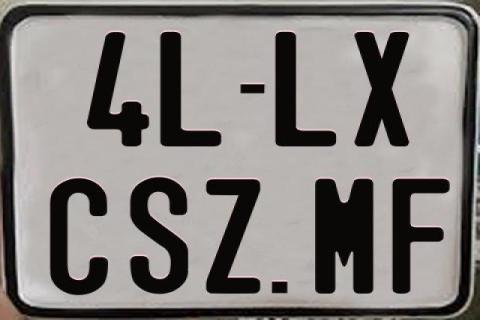0: (85, 31, 150, 149)
C: (48, 178, 106, 296)
F: (392, 177, 451, 296)
L: (158, 32, 223, 150), (274, 30, 336, 150)
M: (315, 178, 377, 298)
S: (128, 177, 189, 296)
X: (354, 32, 409, 150)
Z: (204, 179, 260, 299)
